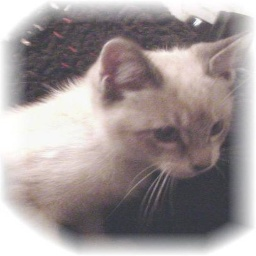cat: (0, 37, 246, 228)
